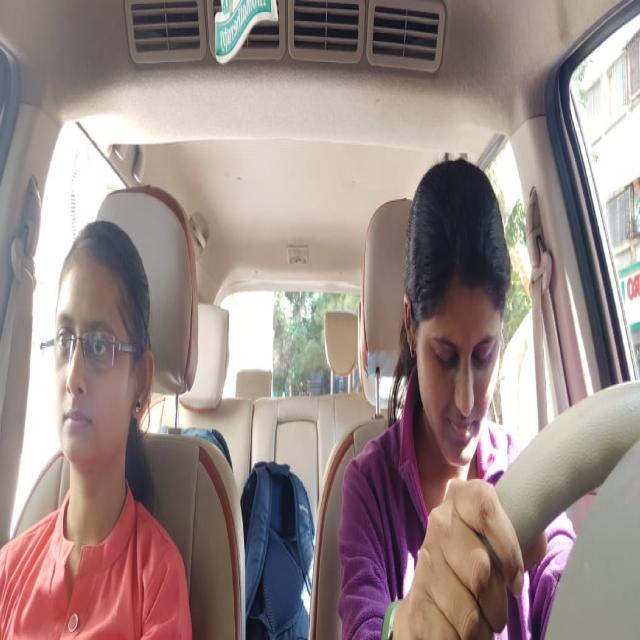drowsy: (401, 152, 508, 483)
person: (48, 223, 151, 477)
